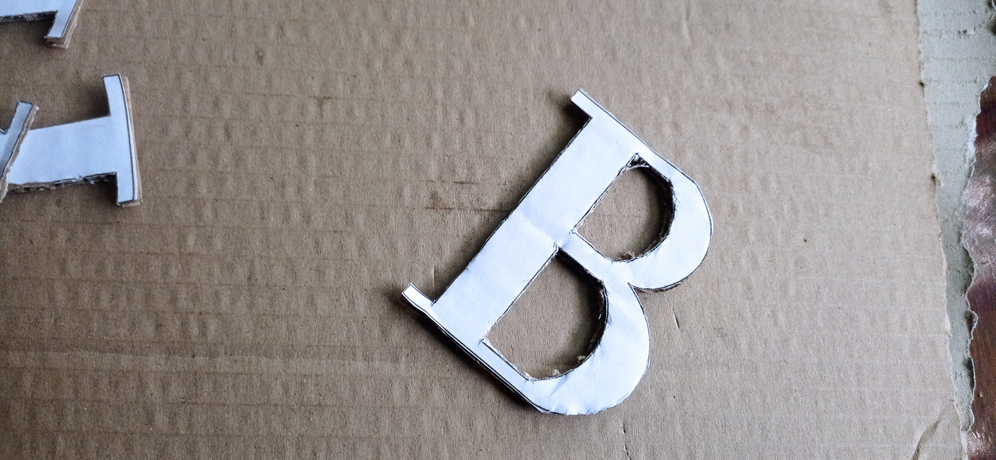v: (399, 86, 714, 417)
